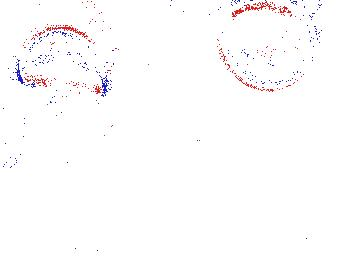moon jellyfish: (216, 1, 318, 90), (17, 26, 107, 92), (92, 2, 197, 48), (1, 1, 42, 67), (1, 79, 27, 168)
